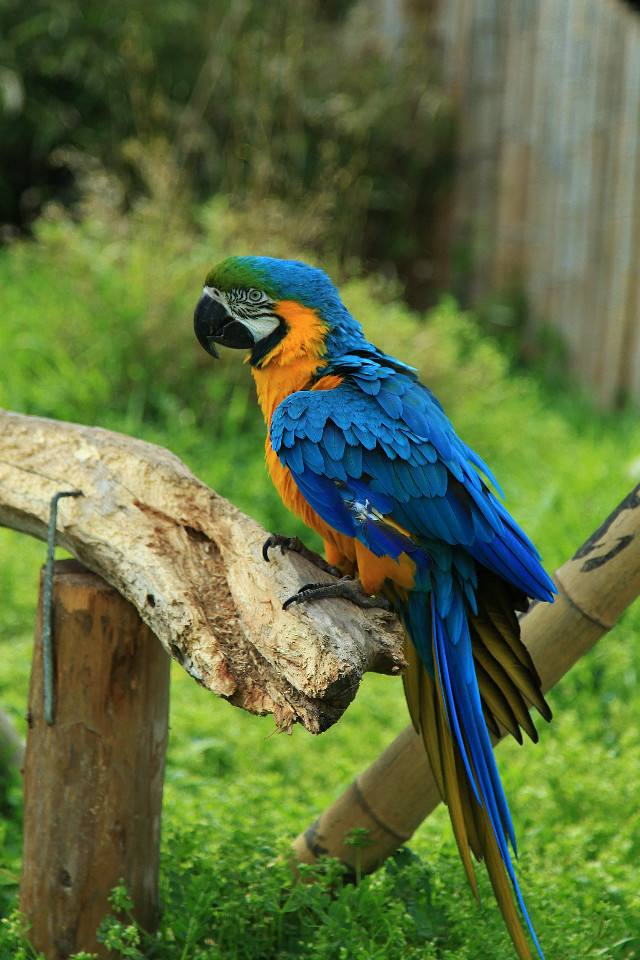bird: (192, 253, 557, 619)
